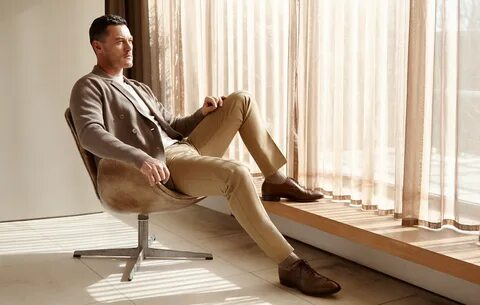awake: (68, 14, 342, 295)
